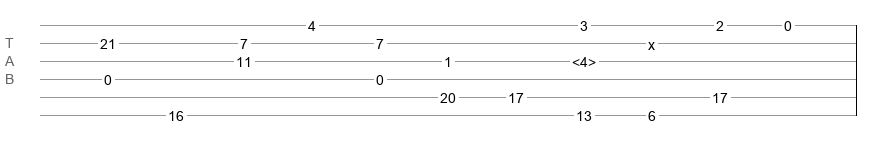0: (104, 72, 112, 82), (376, 72, 384, 82), (784, 18, 792, 28)
1: (444, 54, 452, 64)
11: (236, 54, 252, 64)
13: (576, 108, 592, 118)
16: (168, 108, 184, 118)
17: (508, 90, 524, 100), (712, 90, 728, 100)
2: (716, 18, 724, 28)
20: (440, 90, 456, 100)
21: (100, 36, 116, 46)
3: (580, 18, 588, 28)
4: (308, 18, 316, 28)
6: (648, 108, 656, 118)
7: (240, 36, 248, 46), (376, 36, 384, 46)
harmonic: (572, 54, 596, 64)
x: (648, 37, 655, 45)
